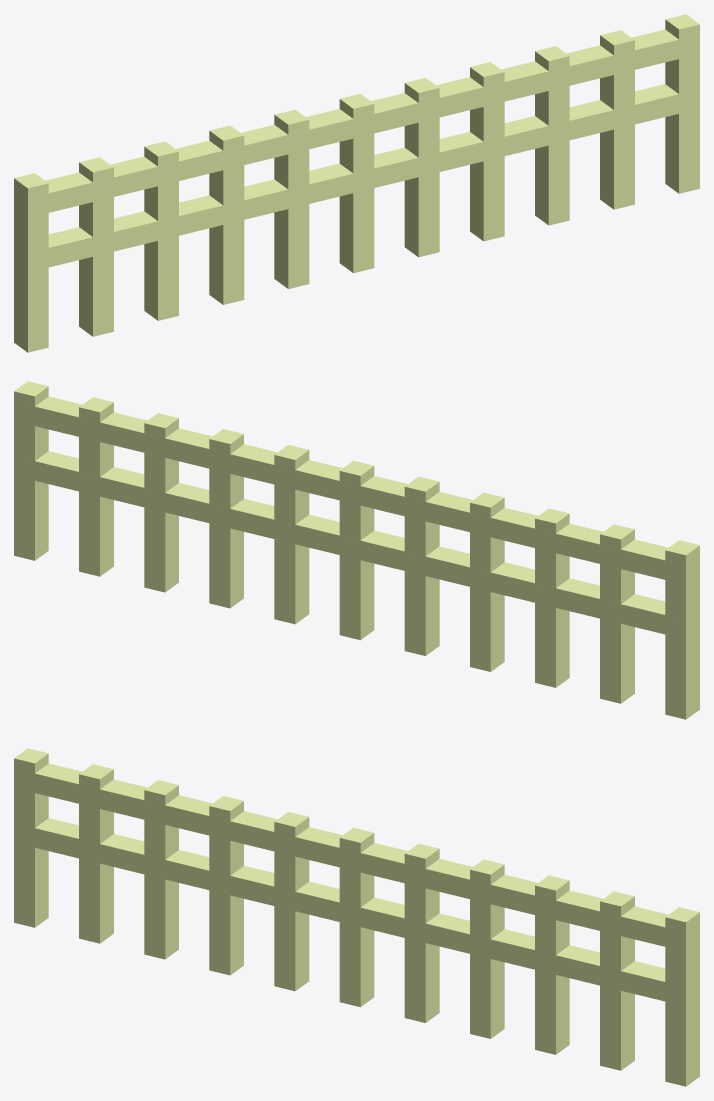
The picture shows the model from 3 angles, top to bottom: view 1: azimuth 30°, elevation 25°; view 2: azimuth 150°, elevation 25°; view 3: azimuth 330°, elevation 25°; orthographic projection.
Visible parts, largest first — view 1: 篱笆.003; view 2: 篱笆.003; view 3: 篱笆.003.
Boxes of the visible parts, box(x1,y1,x2,y2) form: 篱笆.003: box(14, 14, 699, 352); 篱笆.003: box(14, 381, 699, 719); 篱笆.003: box(14, 748, 699, 1086).
Size of the model in its own units: 311 by 72.76 by 11.13.
